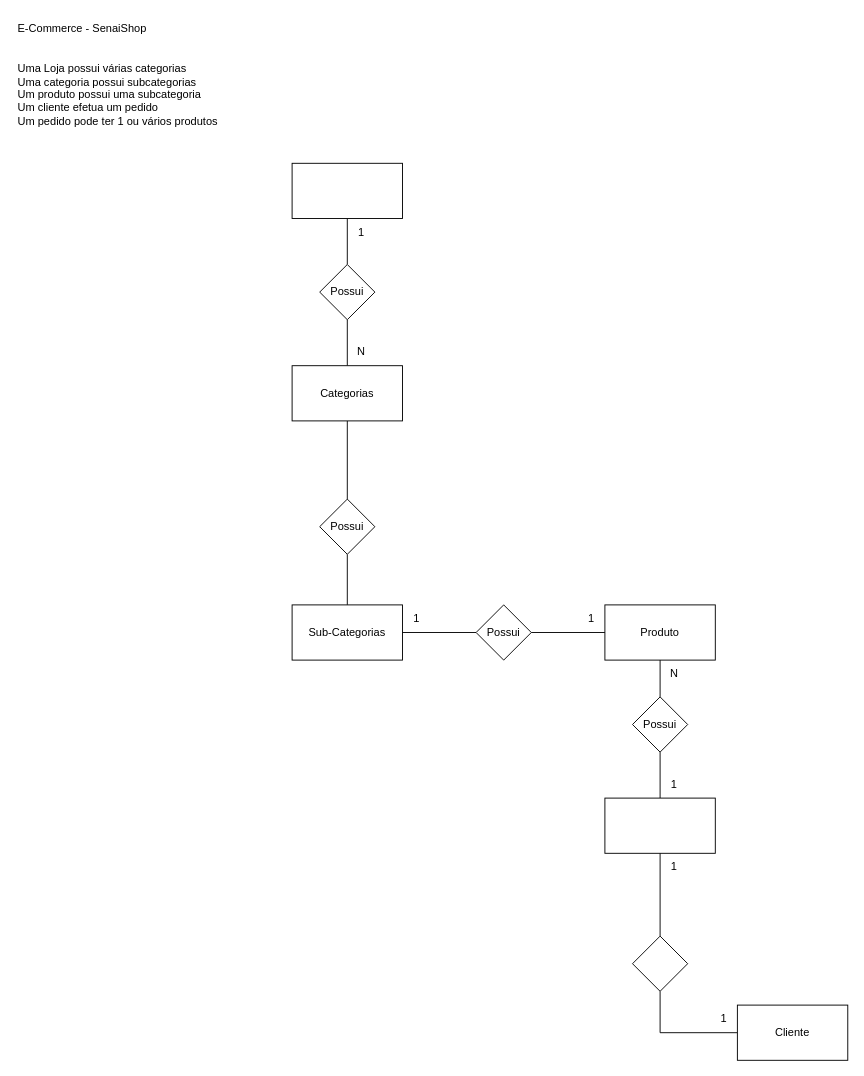
Some shapes in this 864 by 1076 pixel diagram are drawn without their labels. Here are the shapes that lost their labels. From the top down, the centre of each, then its label:
At [346,190]: "Loja".
At [659,825]: "Pedido".
At [660,963]: "Efetua".
